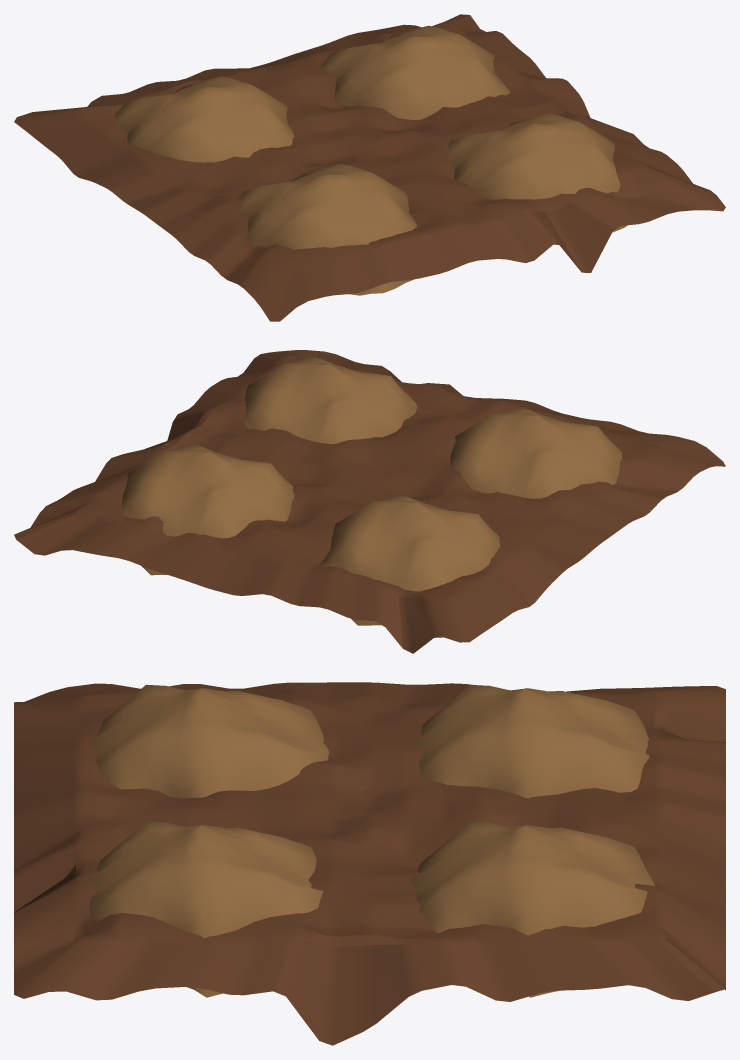
The model's file is mesh_farmplot.fbx.
3 views of the same model, one above another, from view 1: azimuth 30°, elevation 25°; view 2: azimuth 150°, elevation 25°; view 3: azimuth 270°, elevation 25° (orthographic). The views are drawn at different scales.
Visible parts, largest first — view 1: mesh_farmplot, mesh_dirtmound; view 2: mesh_farmplot, mesh_dirtmound; view 3: mesh_farmplot, mesh_dirtmound.
Part boxes in pixels (x1,y1,x2,y2): mesh_farmplot: (14,14,725,321); mesh_dirtmound: (114,25,627,295); mesh_farmplot: (14,350,725,653); mesh_dirtmound: (122,356,622,625); mesh_farmplot: (14,682,725,1045); mesh_dirtmound: (88,684,654,997).
Bounding box in the file's own units: 2.2 × 0.4645 × 2.2.
